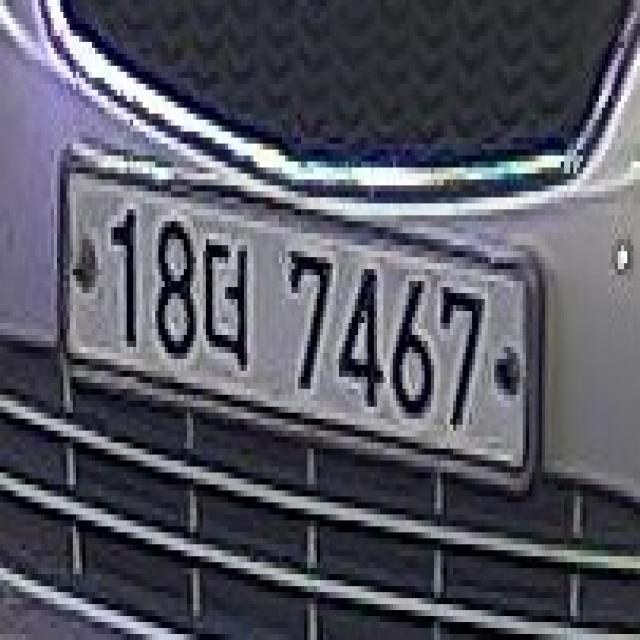1: (101, 197, 146, 365)
4: (339, 257, 387, 425)
6: (390, 257, 437, 431)
7: (440, 269, 488, 449), (282, 245, 333, 413)
8: (152, 221, 200, 365)
deo: (203, 227, 250, 389)
license_plate: (54, 138, 548, 496)
